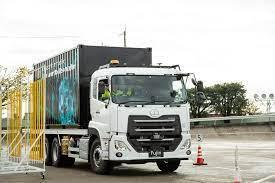truck: (34, 46, 192, 174)
